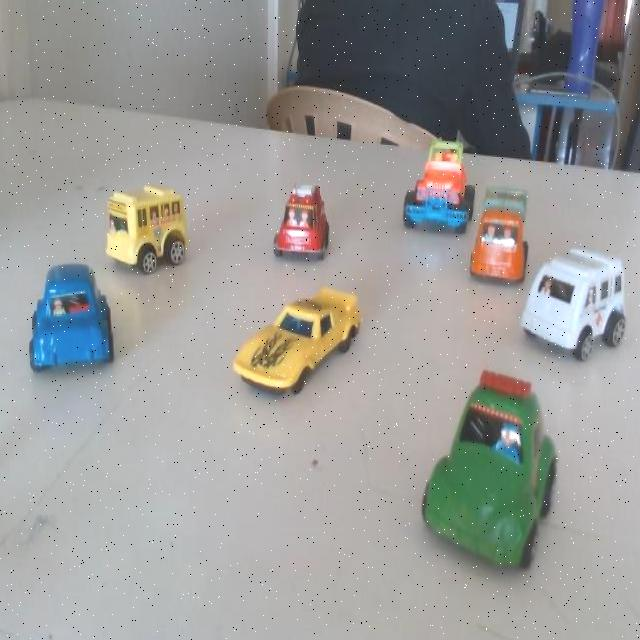car: (400, 386, 576, 564), (234, 266, 374, 406), (526, 248, 630, 365), (25, 264, 115, 368), (108, 177, 196, 273), (408, 139, 478, 244), (468, 190, 532, 290), (272, 173, 334, 274)
